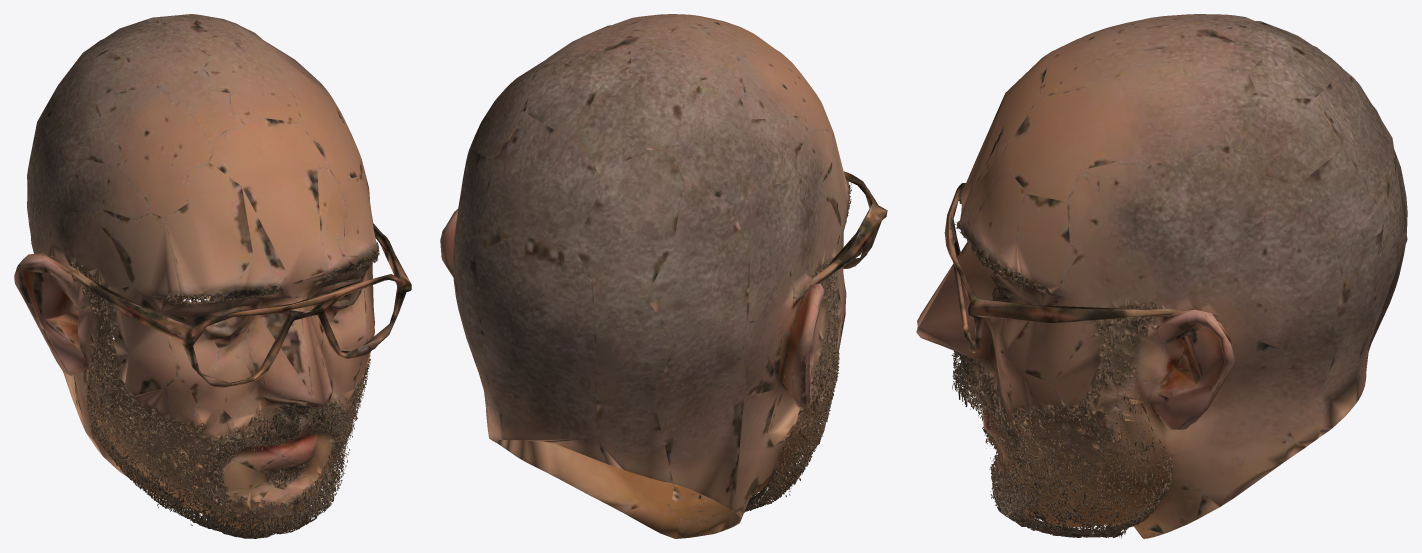
The model's file is hero.glb.
The picture shows the model from 3 angles, left to right: view 1: azimuth 30°, elevation 25°; view 2: azimuth 150°, elevation 25°; view 3: azimuth 270°, elevation 25°; orthographic projection. The views are drawn at different scales.
Parts seen in each view (by area): view 1: geometry_0; view 2: geometry_0; view 3: geometry_0.
Part boxes in pixels (<box>): geometry_0: <box>14,14,411,538</box>; geometry_0: <box>440,14,887,538</box>; geometry_0: <box>916,14,1407,538</box>.
Size of the model in its own units: 0.7478 by 1 by 0.8791.
1 material, 1 textured.
